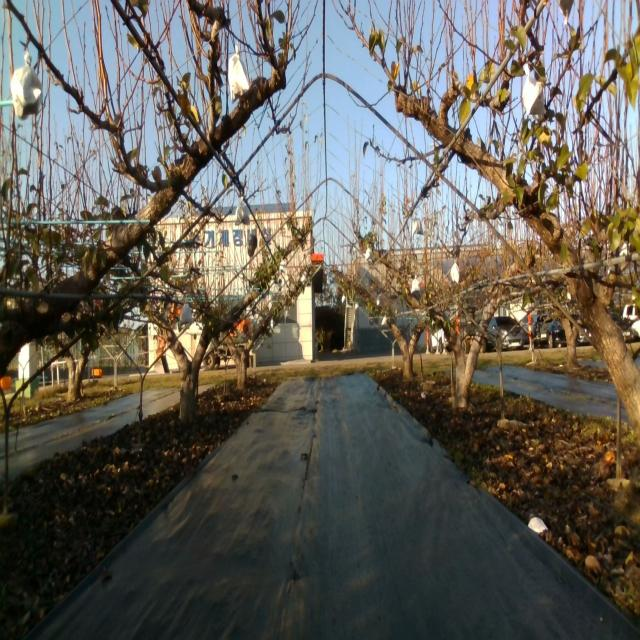pearbags: (8, 54, 47, 120), (522, 62, 548, 115), (228, 45, 248, 102), (234, 194, 251, 227), (179, 304, 194, 326), (412, 208, 424, 234)
